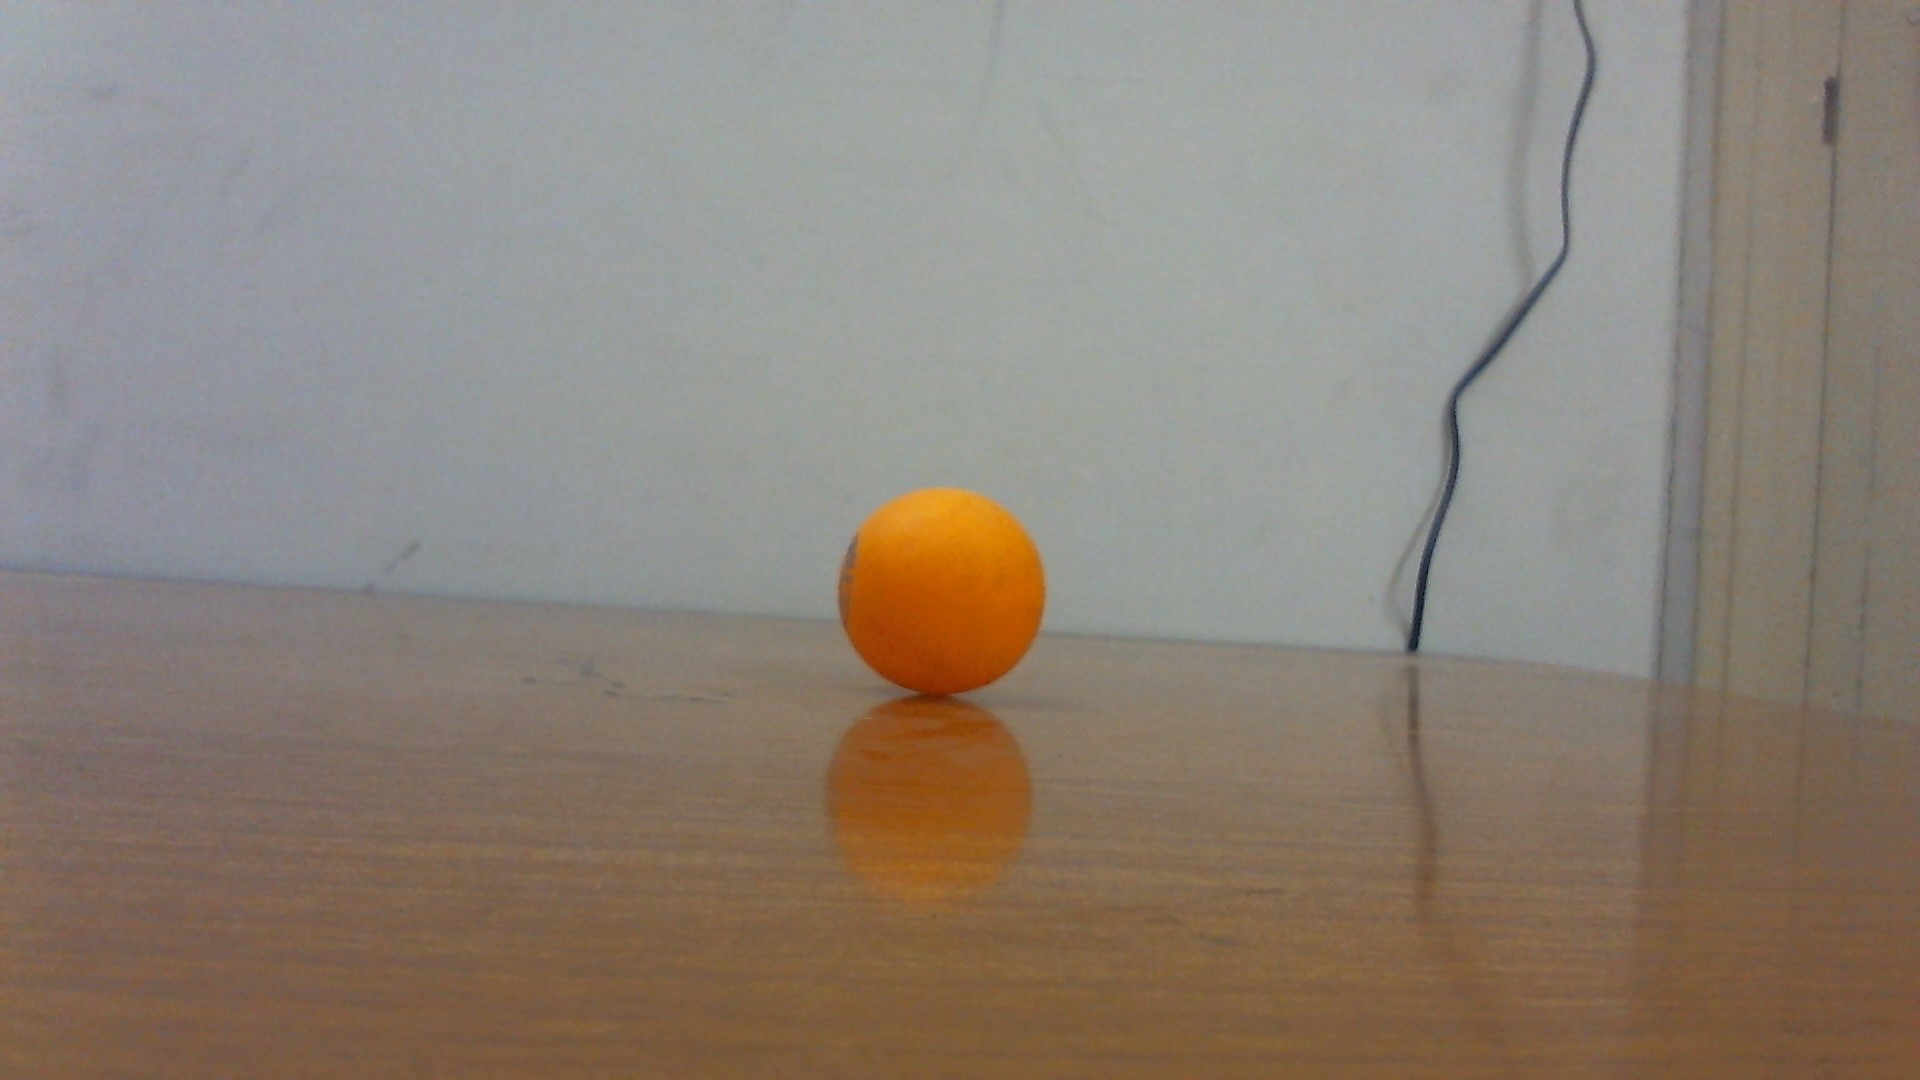ball: (839, 487, 1048, 696)
